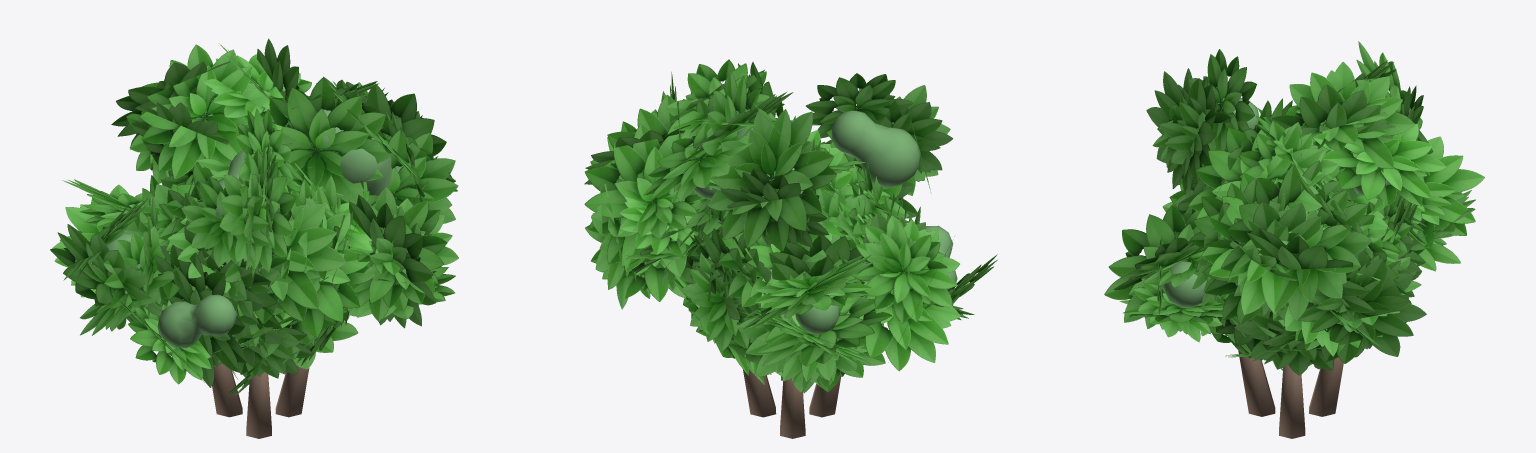
The model's file is hedge.glb.
3 views of the same model, side by side, from view 1: azimuth 30°, elevation 25°; view 2: azimuth 150°, elevation 25°; view 3: azimuth 270°, elevation 25° (orthographic). The views are drawn at different scales.
Parts seen in each view (by area): view 1: hedge_leaves, hedge_dome, hedge_stem_0; view 2: hedge_leaves, hedge_dome, hedge_stem_0; view 3: hedge_leaves, hedge_stem_0, hedge_dome.
Boxes of the visible parts, x1,y1,x2,y2 form: hedge_leaves: [50, 38, 458, 396]; hedge_dome: [102, 97, 407, 347]; hedge_stem_0: [212, 363, 309, 438]; hedge_leaves: [584, 59, 997, 393]; hedge_dome: [687, 109, 957, 334]; hedge_stem_0: [743, 369, 840, 438]; hedge_leaves: [1104, 41, 1484, 375]; hedge_stem_0: [1238, 350, 1343, 438]; hedge_dome: [1163, 98, 1423, 308].
Bounding box in the file's own units: 1.12 × 0.9848 × 1.05.
3 materials, 1 textured.
